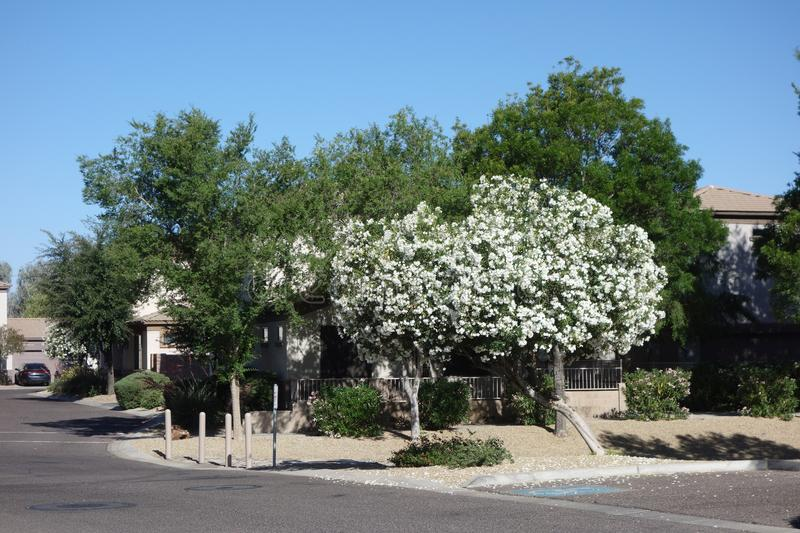tree: (446, 177, 673, 431), (156, 120, 288, 444), (331, 210, 488, 446)
